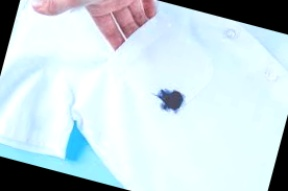ink: (155, 86, 186, 115)
